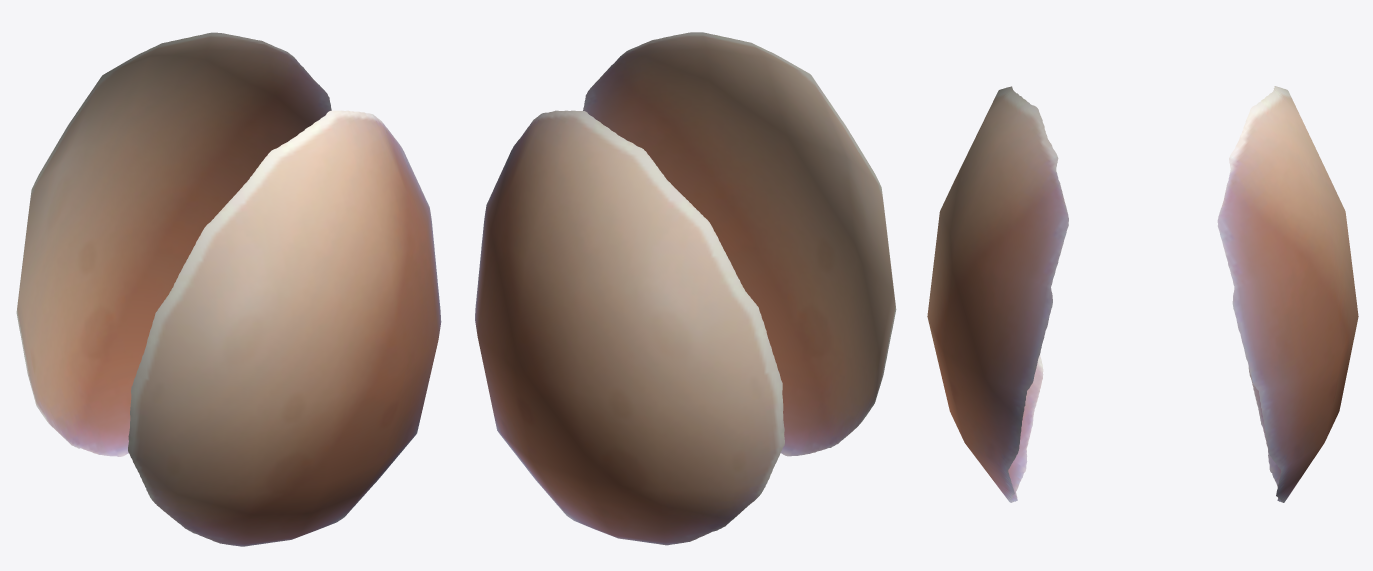
Rendered from EggSpawner.fbx.
3 renders of one model, left to right at view 1: azimuth 30°, elevation 25°; view 2: azimuth 150°, elevation 25°; view 3: azimuth 270°, elevation 25°, orthographic.
Visible parts, largest first — view 1: EggSpawner; view 2: EggSpawner; view 3: EggSpawner.
Boxes of the visible parts, x1,y1,x2,y2 form: EggSpawner: [16, 32, 441, 546]; EggSpawner: [475, 32, 896, 545]; EggSpawner: [927, 86, 1358, 502].
Bounding box in the file's own units: 0.6871 × 0.8983 × 0.6871.
